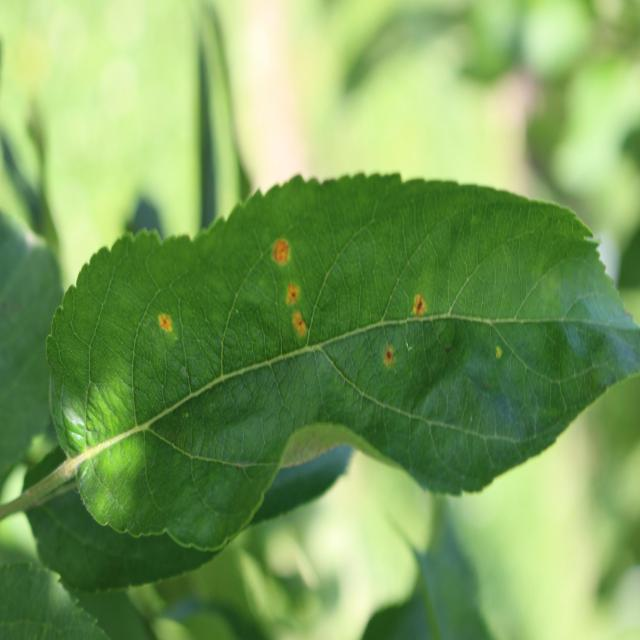Rust: (277, 280, 314, 353), (408, 285, 433, 340), (272, 224, 297, 276), (371, 332, 397, 379), (154, 300, 175, 349)
